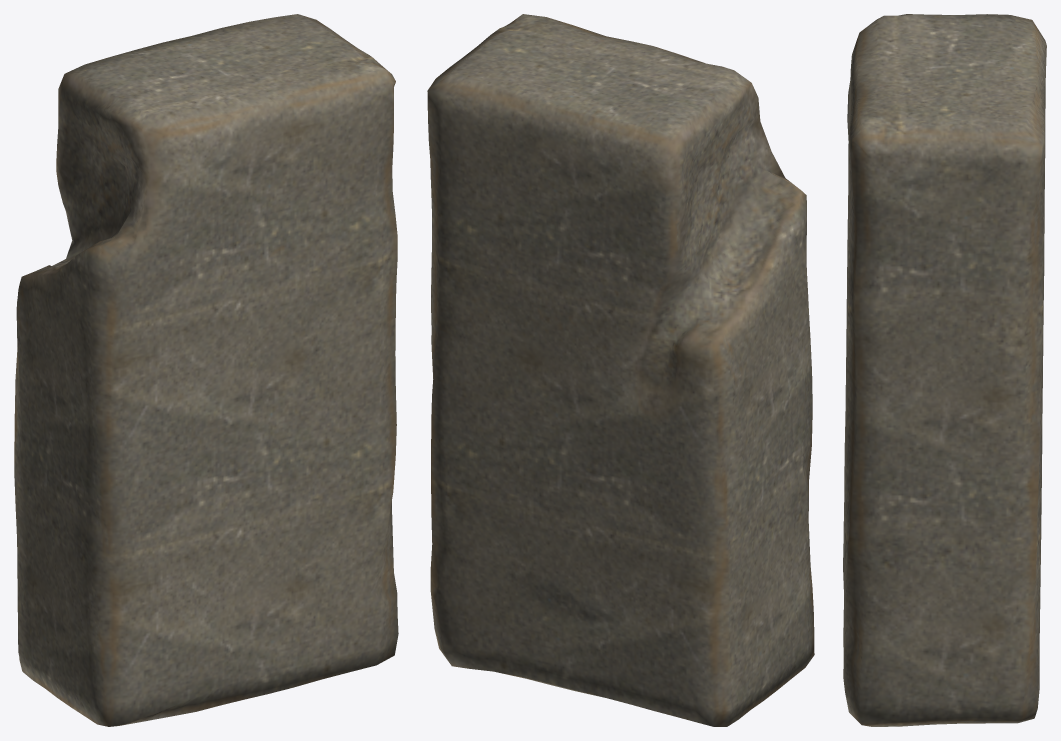
File: Brick4.fbx
The picture shows the model from 3 angles, left to right: view 1: azimuth 30°, elevation 25°; view 2: azimuth 150°, elevation 25°; view 3: azimuth 270°, elevation 25°; orthographic projection.
Parts seen in each view (by area): view 1: Brick4; view 2: Brick4; view 3: Brick4.
Part boxes in pixels (x1,y1,x2,y2): Brick4: (14, 14, 398, 726); Brick4: (427, 14, 814, 726); Brick4: (843, 14, 1046, 726).
Size of the model in its own units: 8.07 by 15.15 by 4.64.
